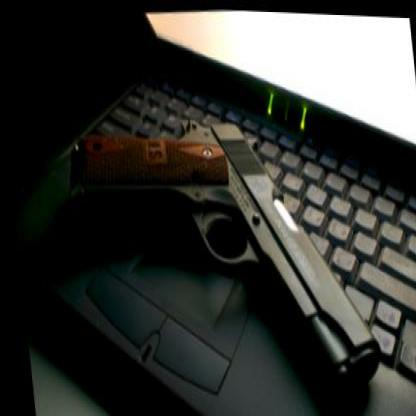pistol: (62, 104, 378, 401)
